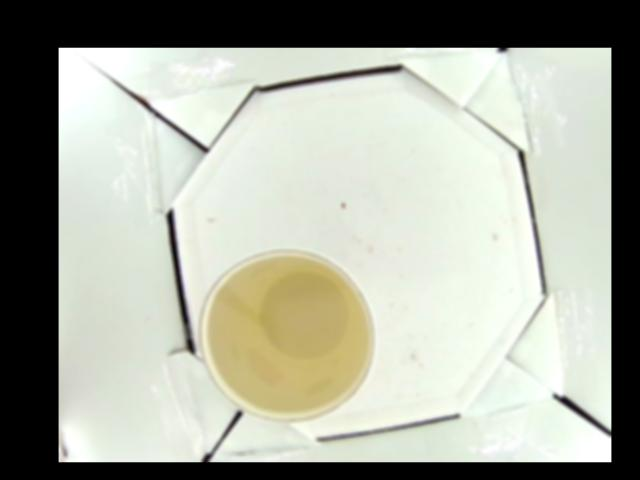Cup: (196, 248, 377, 419)
